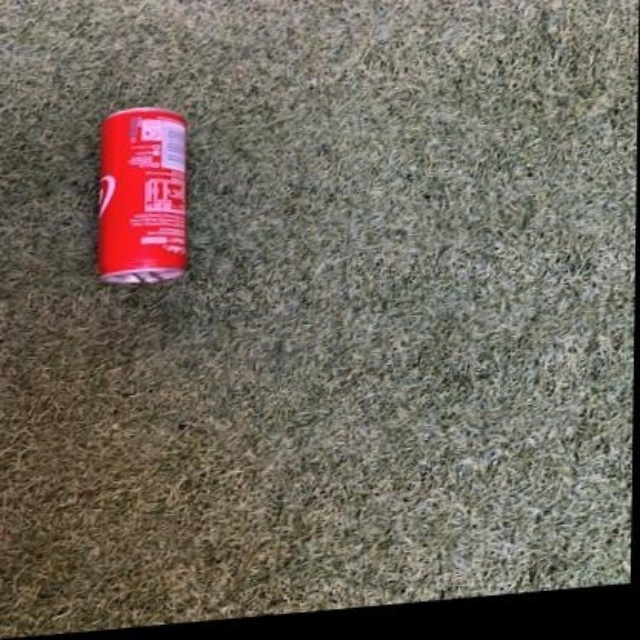trash: (98, 108, 186, 283)
